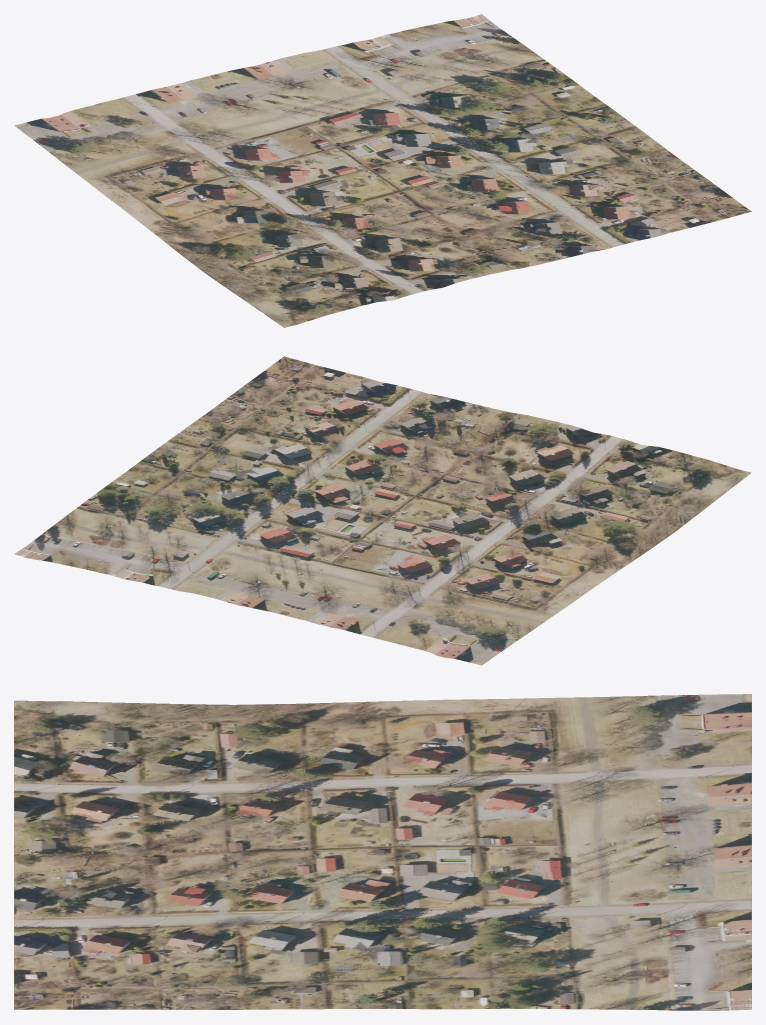
File: CM_Terrain_24489639_6818770.fbx
The picture shows the model from 3 angles, top to bottom: view 1: azimuth 30°, elevation 25°; view 2: azimuth 150°, elevation 25°; view 3: azimuth 270°, elevation 25°; orthographic projection. The views are drawn at different scales.
Visible parts, largest first — view 1: CM_Terrain_24489639_6818770_LOD0; view 2: CM_Terrain_24489639_6818770_LOD0; view 3: CM_Terrain_24489639_6818770_LOD0.
Boxes of the visible parts, x1=… form: CM_Terrain_24489639_6818770_LOD0: x1=14, y1=14, x2=751, y2=327; CM_Terrain_24489639_6818770_LOD0: x1=14, y1=356, x2=751, y2=665; CM_Terrain_24489639_6818770_LOD0: x1=14, y1=694, x2=751, y2=1010.
Size of what is drawn, in the model's own units: 205 by 4.2 by 205.
